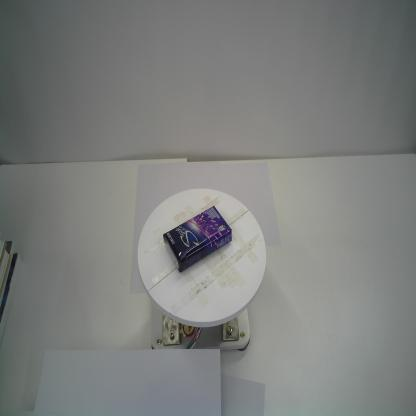Gum: (162, 204, 233, 274)
